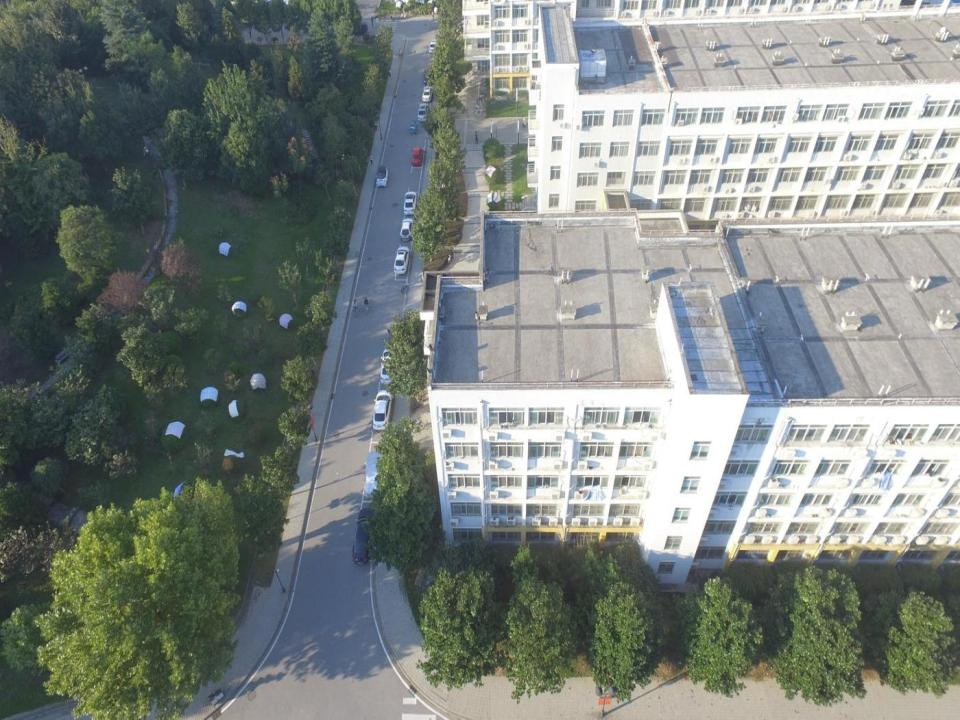car: (352, 506, 374, 565), (363, 449, 386, 500), (372, 388, 394, 430), (379, 346, 398, 386), (393, 245, 409, 275), (402, 191, 417, 216), (399, 218, 414, 240), (375, 164, 388, 187), (423, 63, 436, 84), (411, 146, 424, 166), (348, 21, 368, 34), (418, 102, 428, 122), (422, 85, 432, 102), (428, 39, 439, 53)
